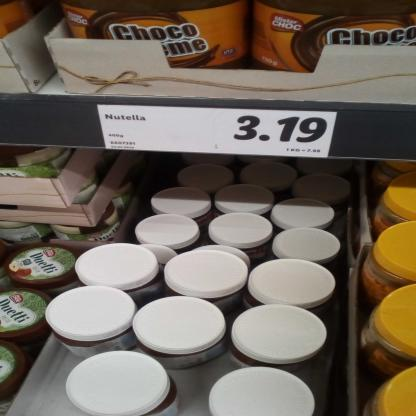prtg: (98, 105, 339, 159)
